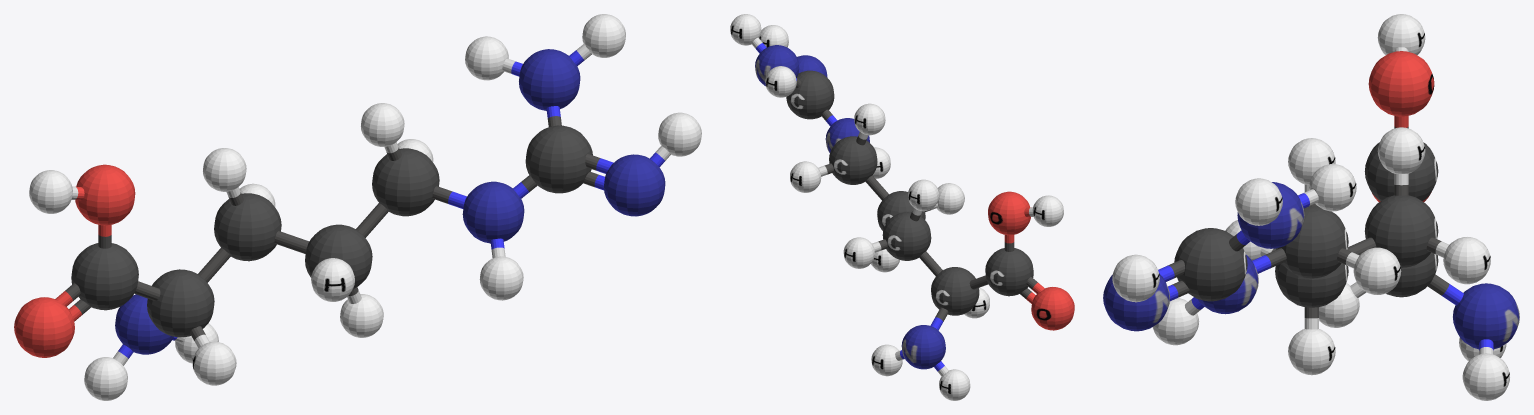
Rendered from Arginina.fbx.
3 views of the same model, side by side, from view 1: azimuth 30°, elevation 25°; view 2: azimuth 150°, elevation 25°; view 3: azimuth 270°, elevation 25° (orthographic). The views are drawn at different scales.
Parts seen in each view (by area): view 1: Arginina; view 2: Arginina; view 3: Arginina.
Part boxes in pixels (<box>): Arginina: <box>14,14,701,400</box>; Arginina: <box>730,14,1074,400</box>; Arginina: <box>1103,14,1519,400</box>.
Bounding box in the file's own units: 28.9 × 17.95 × 17.33.
Materials: 8 (4 with a texture image).
